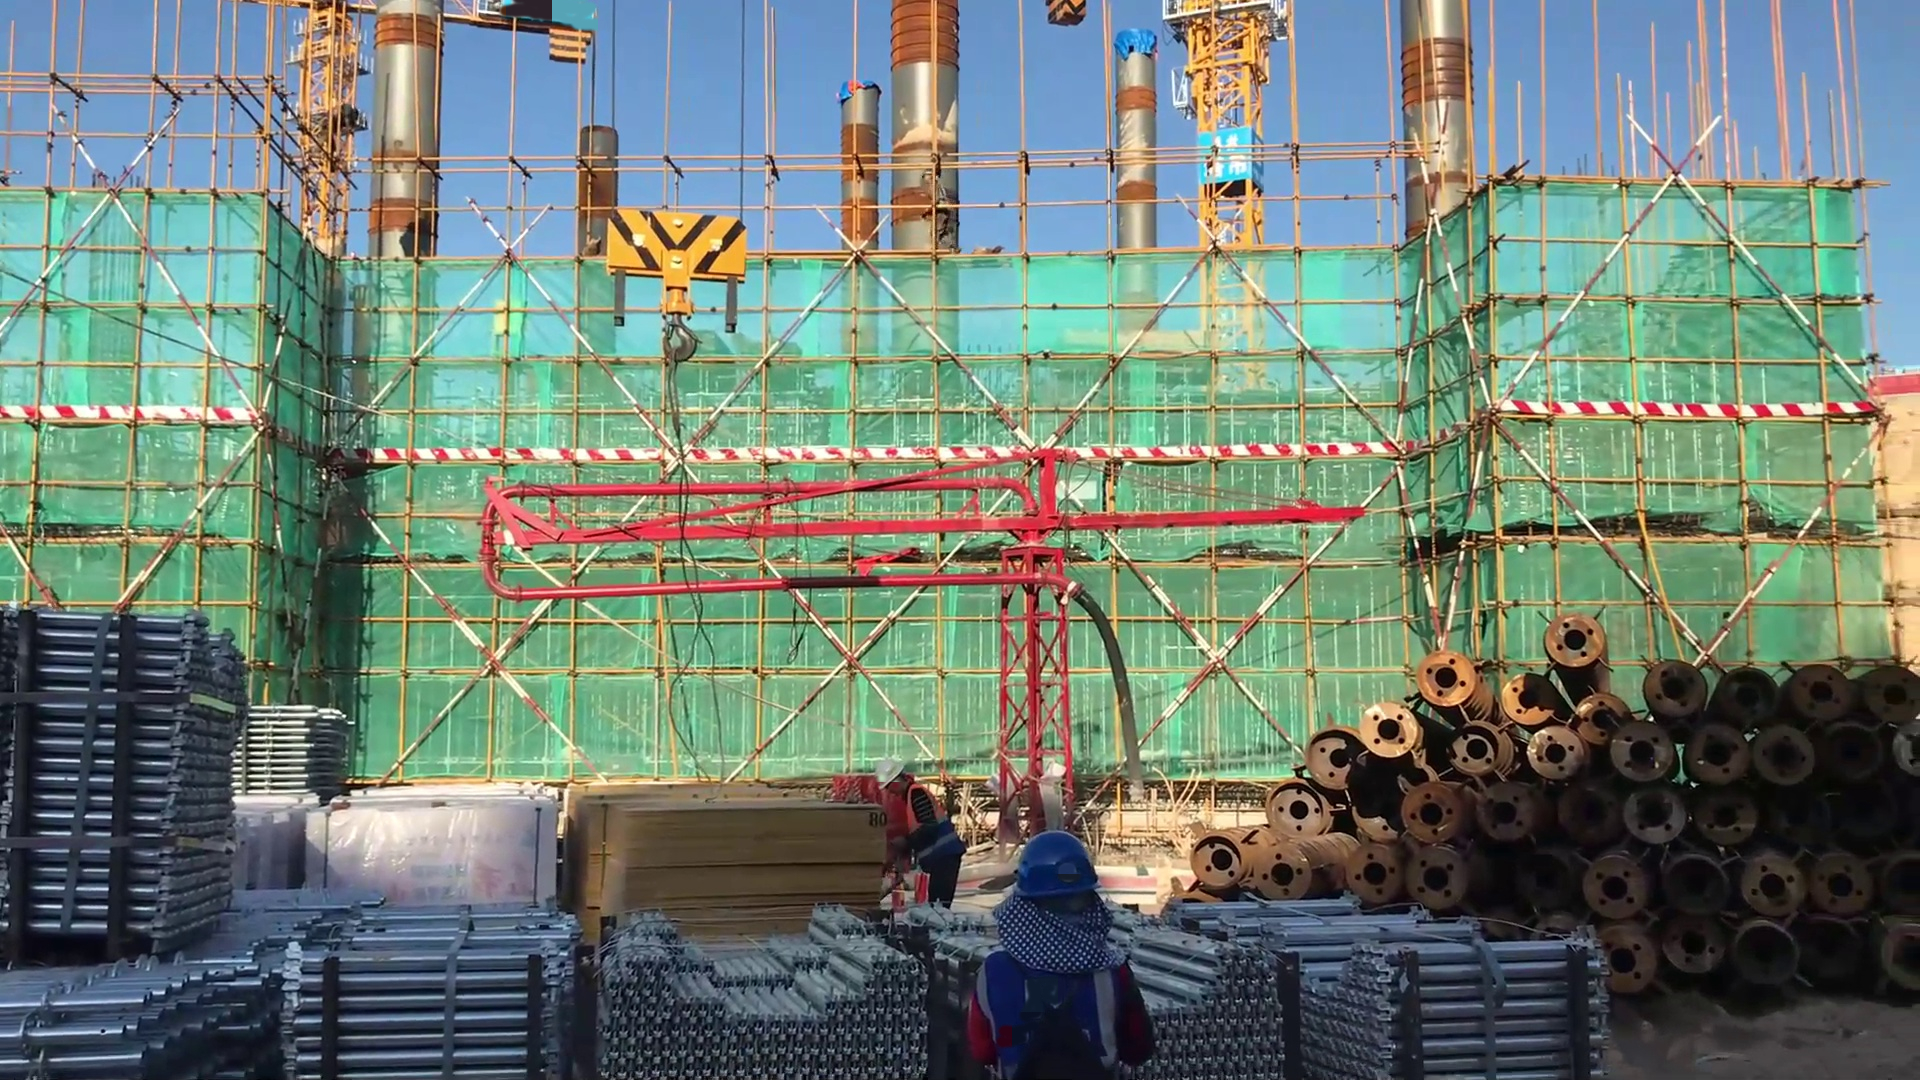board: (569, 775, 890, 967)
helmet: (993, 836, 1112, 897), (862, 755, 909, 795)
hook: (588, 170, 755, 385)
person: (966, 827, 1162, 1080), (870, 761, 974, 920), (912, 163, 966, 265)
scaffold: (1116, 888, 1609, 1076), (1, 616, 263, 959), (1, 882, 365, 1075), (590, 913, 922, 1069), (279, 906, 598, 1066), (234, 705, 361, 788)
slogan: (1198, 128, 1262, 192)
vest: (975, 951, 1130, 1080), (904, 785, 966, 879)
